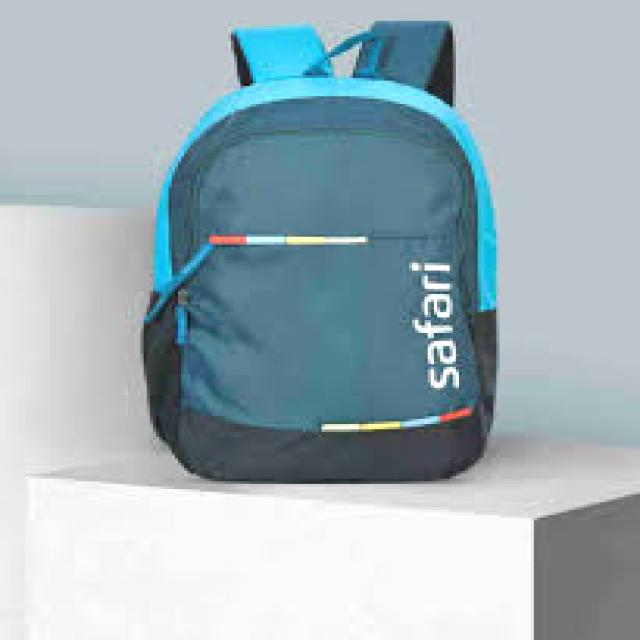backpack: (142, 20, 501, 483)
